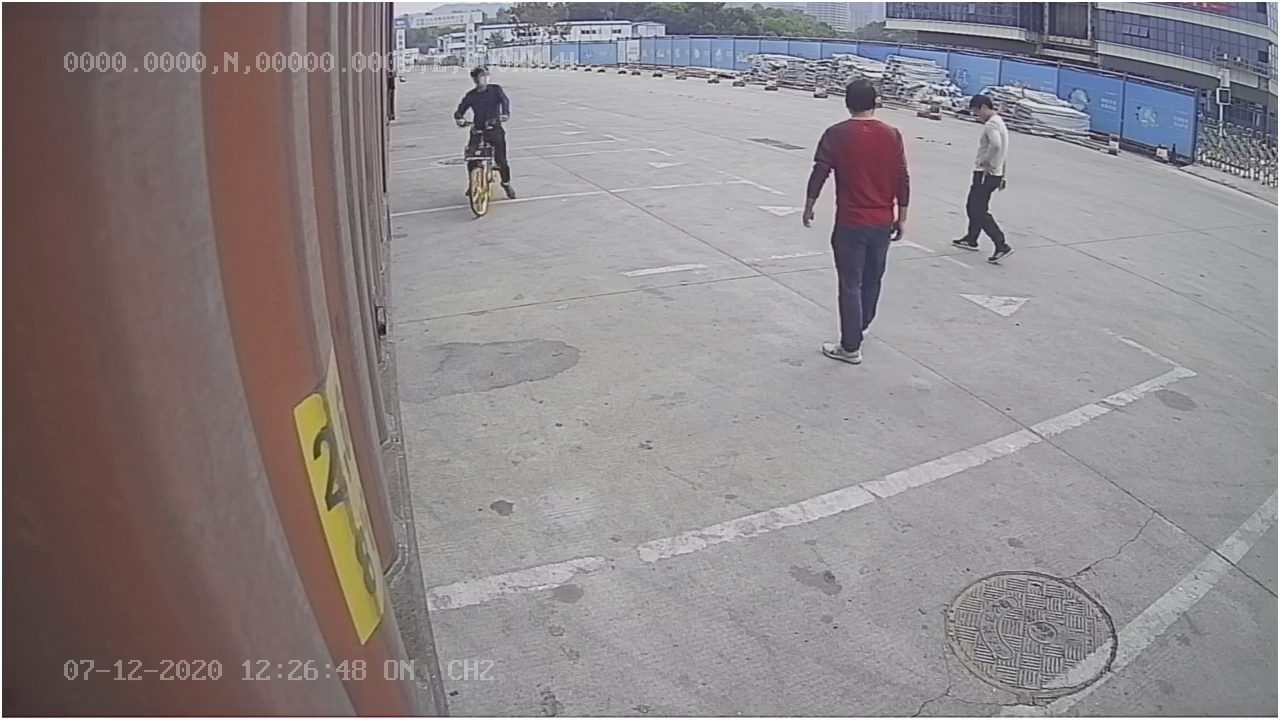person: (803, 73, 916, 364)
